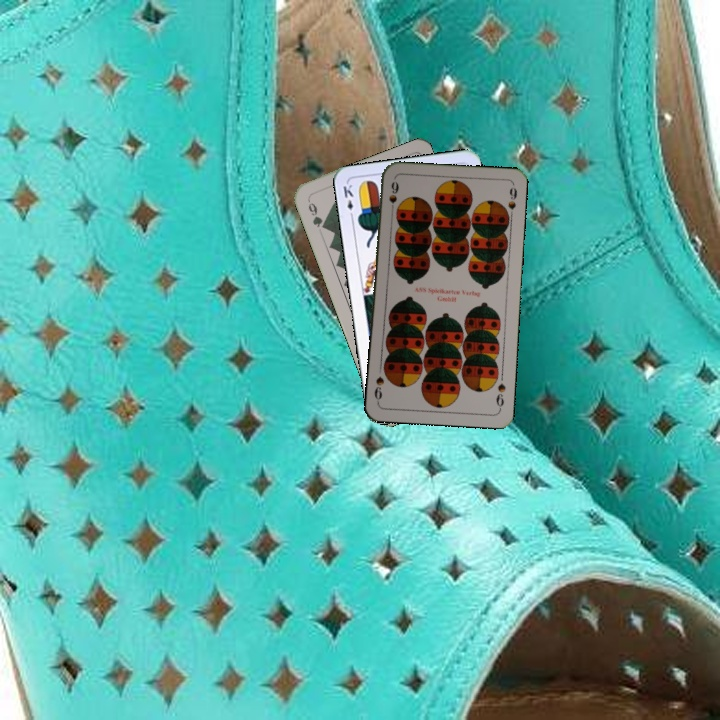EK: (339, 180, 356, 221)
G9: (304, 195, 328, 232)
S9: (385, 177, 401, 217), (492, 379, 508, 412)
